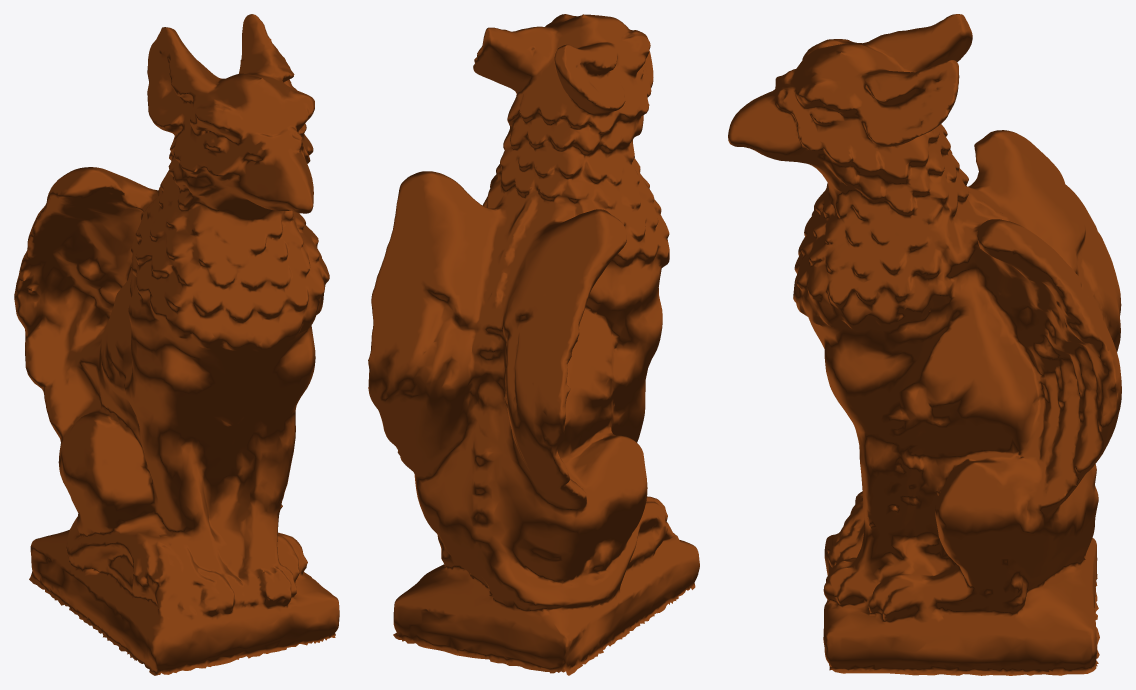
Rendered from griffon_statue_fbx.FBX.
3 views of the same model, side by side, from view 1: azimuth 30°, elevation 25°; view 2: azimuth 150°, elevation 25°; view 3: azimuth 270°, elevation 25° (orthographic). The views are drawn at different scales.
Visible parts, largest first — view 1: griffon_statue; view 2: griffon_statue; view 3: griffon_statue.
Boxes of the visible parts, x1=… form: griffon_statue: x1=14, y1=14, x2=339, y2=675; griffon_statue: x1=368, y1=14, x2=699, y2=675; griffon_statue: x1=728, y1=14, x2=1121, y2=675.
Bounding box in the file's own units: 159 × 229 × 388.
